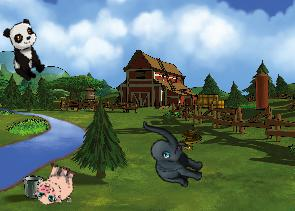elephant: (131, 120, 211, 190)
panda: (0, 17, 50, 84)
pig: (31, 159, 80, 210)
